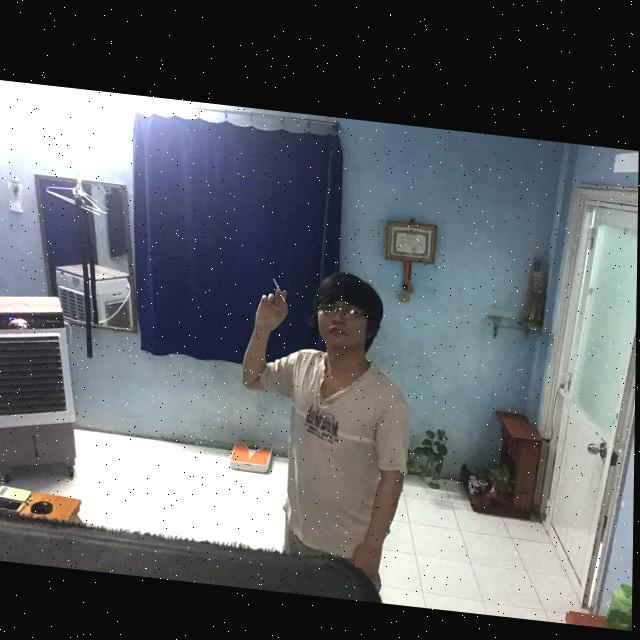cigarette: (273, 272, 287, 296)
